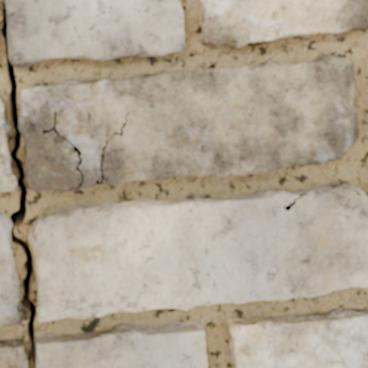brick: (29, 184, 367, 320), (19, 56, 357, 191), (6, 0, 184, 66), (228, 308, 367, 367), (200, 0, 367, 48), (35, 321, 206, 367), (0, 215, 22, 326), (0, 97, 15, 190), (0, 339, 28, 367)
crack: (0, 0, 37, 366), (42, 111, 83, 189), (92, 110, 129, 185)
